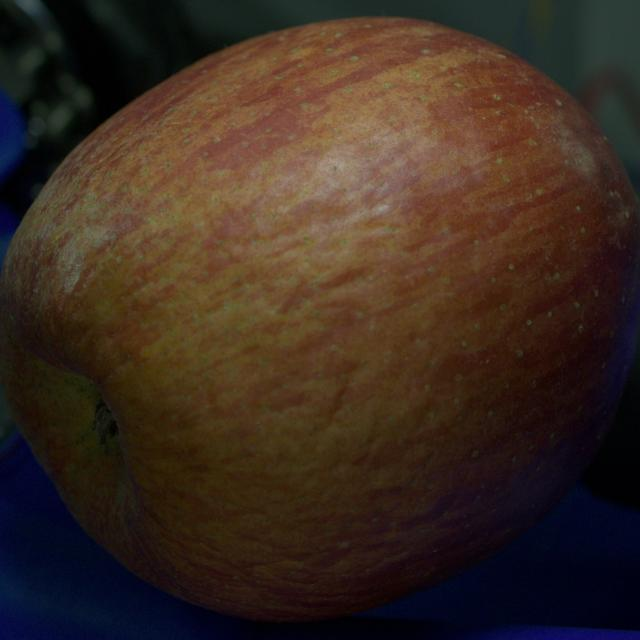apple: (0, 18, 639, 621)
